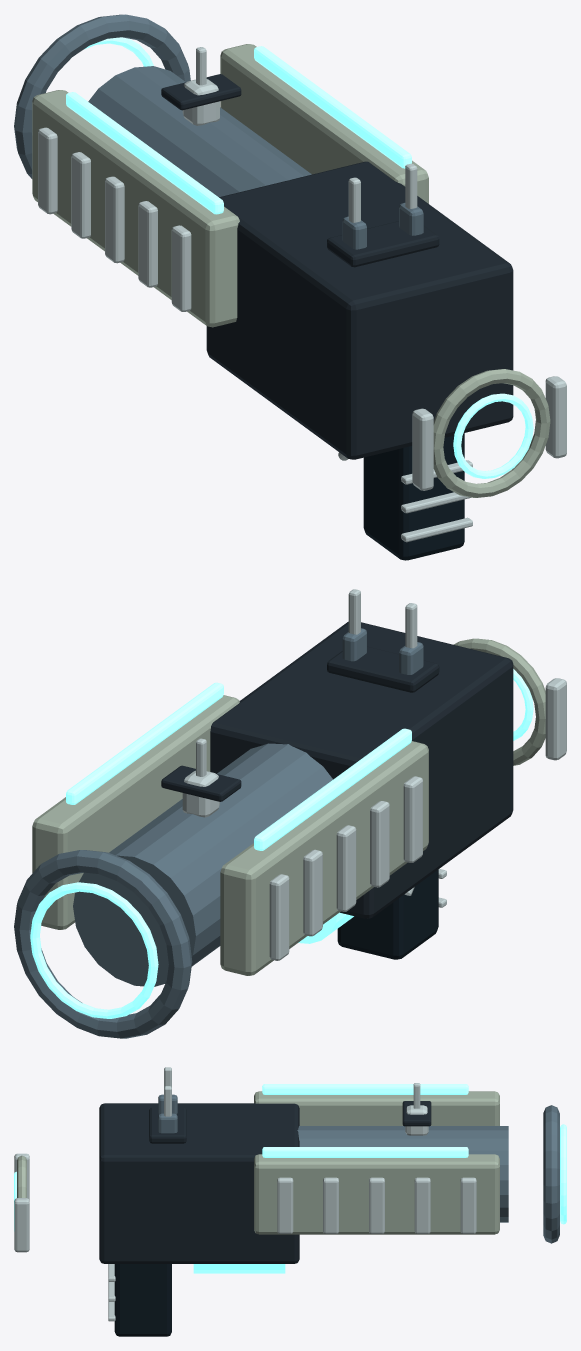
The model's file is weapon-4.glb.
The picture shows the model from 3 angles, top to bottom: view 1: azimuth 30°, elevation 25°; view 2: azimuth 150°, elevation 25°; view 3: azimuth 270°, elevation 25°; orthographic projection. The views are drawn at different scales.
Parts seen in each view (by area): view 1: body-dark, body-ceramic, body-light, body-trim, body-glow, body-rubber; view 2: body-dark, body-light, body-ceramic, body-trim, body-glow, body-rubber, feed-glow; view 3: body-dark, body-ceramic, body-light, body-trim, body-glow, body-rubber, feed-glow.
Boxes of the visible parts, <box> form: body-dark: <box>161,74,513,459</box>; body-ceramic: <box>32,44,550,497</box>; body-light: <box>14,14,423,249</box>; body-trim: <box>38,47,566,542</box>; body-glow: <box>66,37,533,478</box>; body-rubber: <box>363,433,464,560</box>; body-dark: <box>161,621,513,918</box>; body-light: <box>14,628,423,1038</box>; body-ceramic: <box>32,638,545,975</box>; body-trim: <box>182,589,566,960</box>; body-glow: <box>30,669,533,1018</box>; body-rubber: <box>337,869,438,959</box>; feed-glow: <box>298,912,353,943</box>; body-dark: <box>99,1101,431,1263</box>; body-ceramic: <box>17,1091,499,1234</box>; body-light: <box>158,1094,559,1243</box>; body-trim: <box>14,1067,476,1321</box>; body-glow: <box>14,1084,566,1231</box>; body-rubber: <box>114,1264,171,1336</box>; feed-glow: <box>193,1264,285,1273</box>.
Size of the model in its own units: 0.335 by 0.4745 by 0.966.
